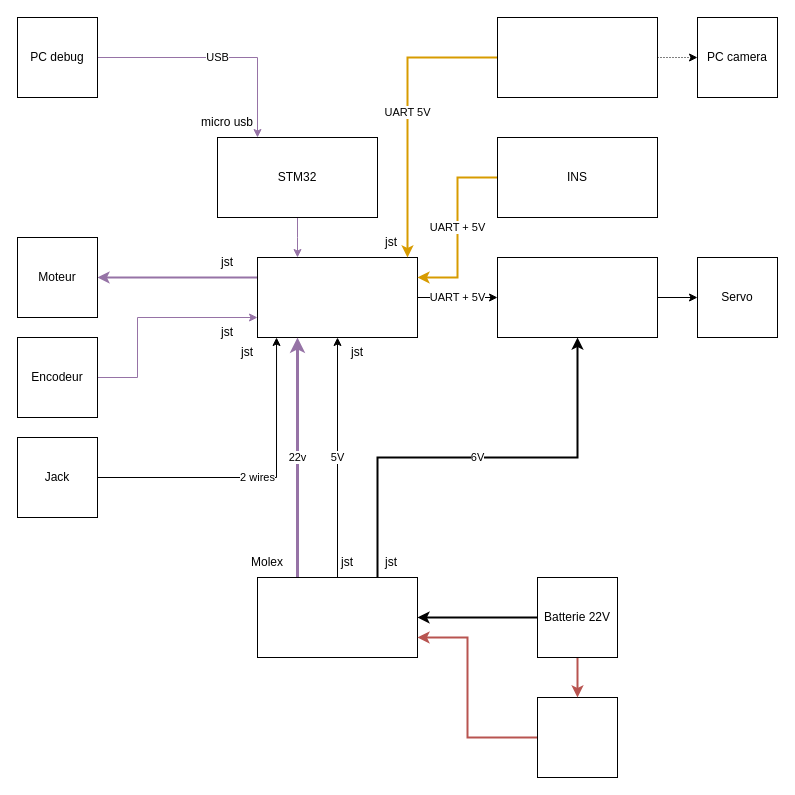
Image size: 795x795. Some labels were removed from this diagram. Each missing label, with the centre of its shape:
"Alim" goes at (337,617).
"AU" goes at (577,737).
"BT-serial" goes at (577,57).
"Cmd Servo" goes at (577,297).
"Hat" goes at (337,297).
